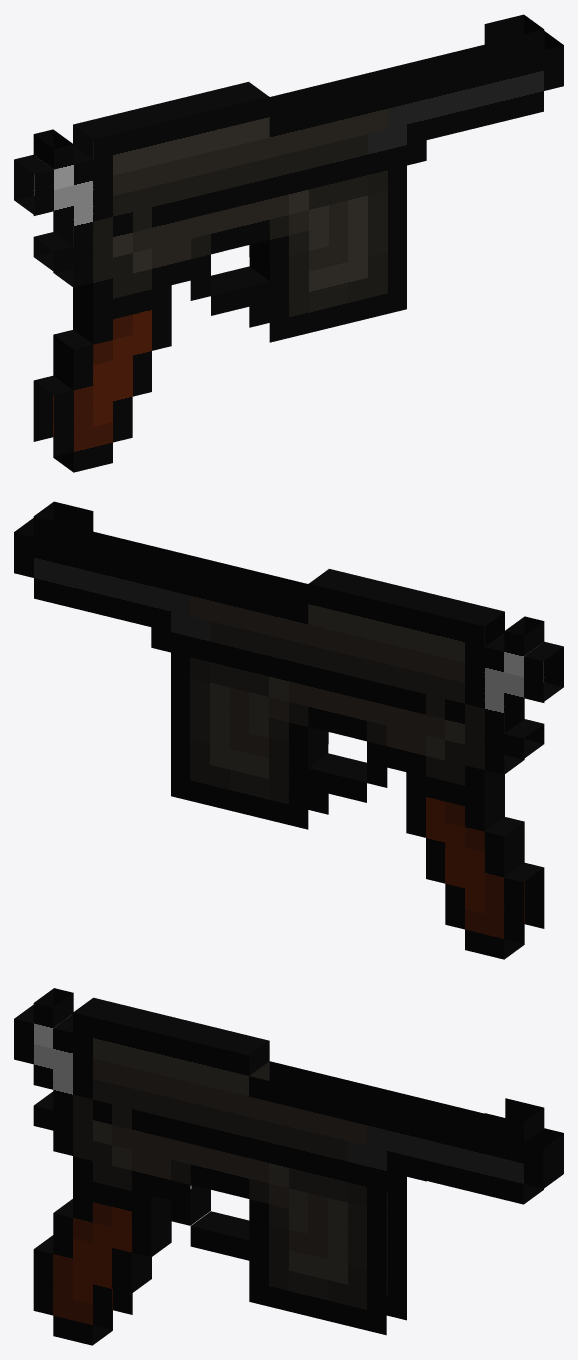
The model's file is pistol.fbx.
3 views of the same model, one above another, from view 1: azimuth 30°, elevation 25°; view 2: azimuth 150°, elevation 25°; view 3: azimuth 330°, elevation 25° (orthographic).
Parts seen in each view (by area): view 1: MauserPistol; view 2: MauserPistol; view 3: MauserPistol.
Boxes of the visible parts, x1,y1,x2,y2 form: MauserPistol: (14,14,563,472); MauserPistol: (14,501,563,959); MauserPistol: (14,988,563,1345).
Size of the model in its own units: 150 by 89.08 by 10.
